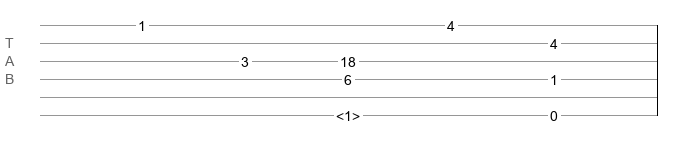0: (550, 108, 558, 118)
1: (138, 18, 146, 28), (550, 72, 558, 82)
18: (340, 54, 356, 64)
3: (241, 54, 249, 64)
4: (447, 18, 455, 28), (550, 36, 558, 46)
6: (344, 72, 352, 82)
harmonic: (336, 108, 360, 118)
